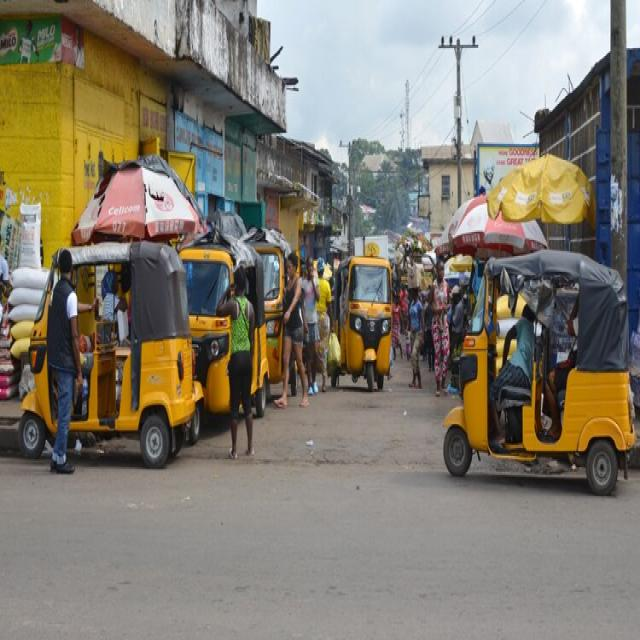autorickshaw: (444, 248, 635, 491), (20, 241, 200, 466), (331, 254, 395, 391)
